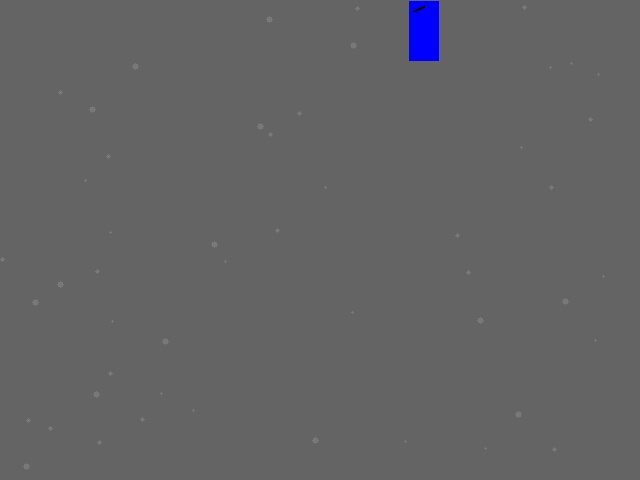motorcycle: (409, 1, 438, 60)
